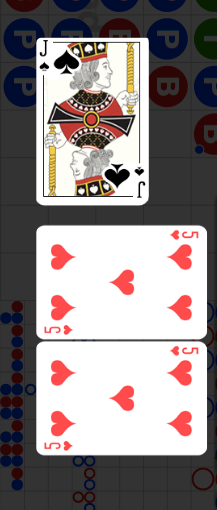5H: (168, 228, 200, 241), (169, 345, 200, 357)
